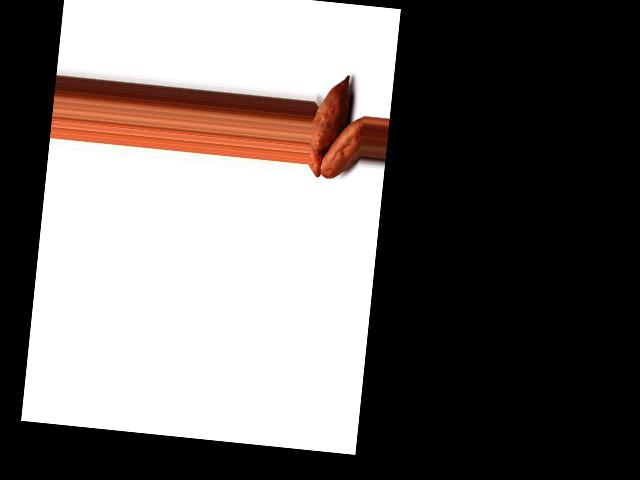sweet_potato: (320, 108, 365, 181)
